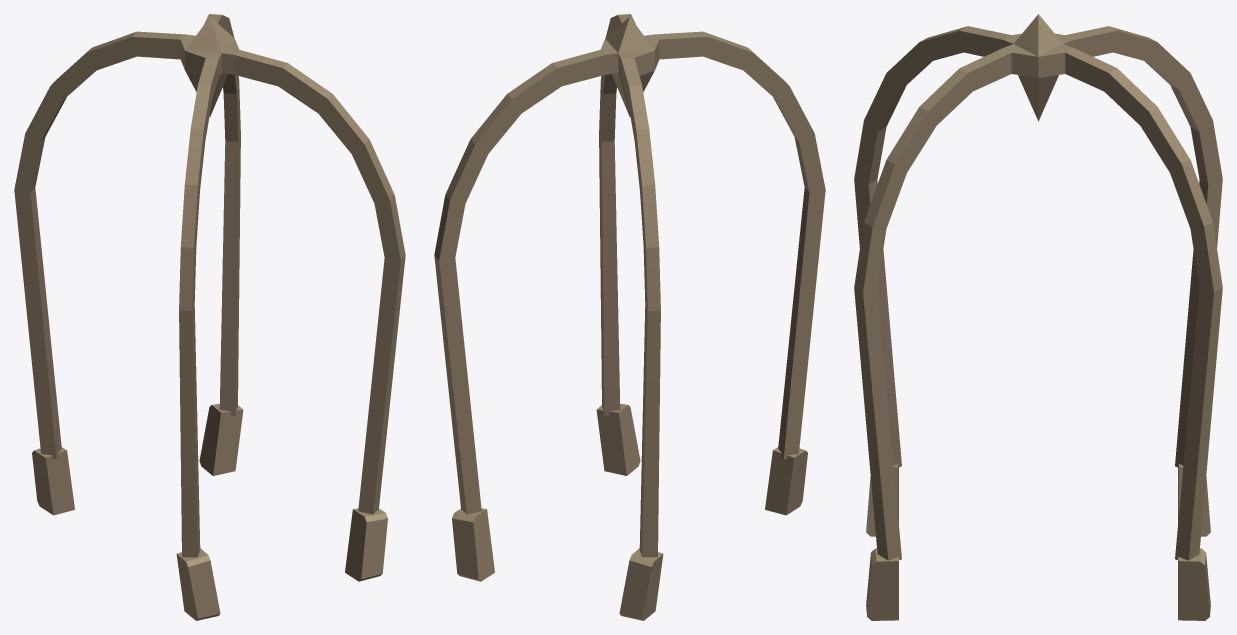
Rendered from ChandelierSupport.fbx.
3 views of the same model, side by side, from view 1: azimuth 30°, elevation 25°; view 2: azimuth 150°, elevation 25°; view 3: azimuth 270°, elevation 25° (orthographic). The views are drawn at different scales.
Visible parts, largest first — view 1: SM_Chandelier_cane.004; view 2: SM_Chandelier_cane.004; view 3: SM_Chandelier_cane.004.
Boxes of the visible parts, bbox=[...] form: SM_Chandelier_cane.004: bbox=[14, 14, 405, 620]; SM_Chandelier_cane.004: bbox=[434, 14, 825, 620]; SM_Chandelier_cane.004: bbox=[854, 14, 1222, 620].
Size of the model in its own units: 244 by 322 by 539.
